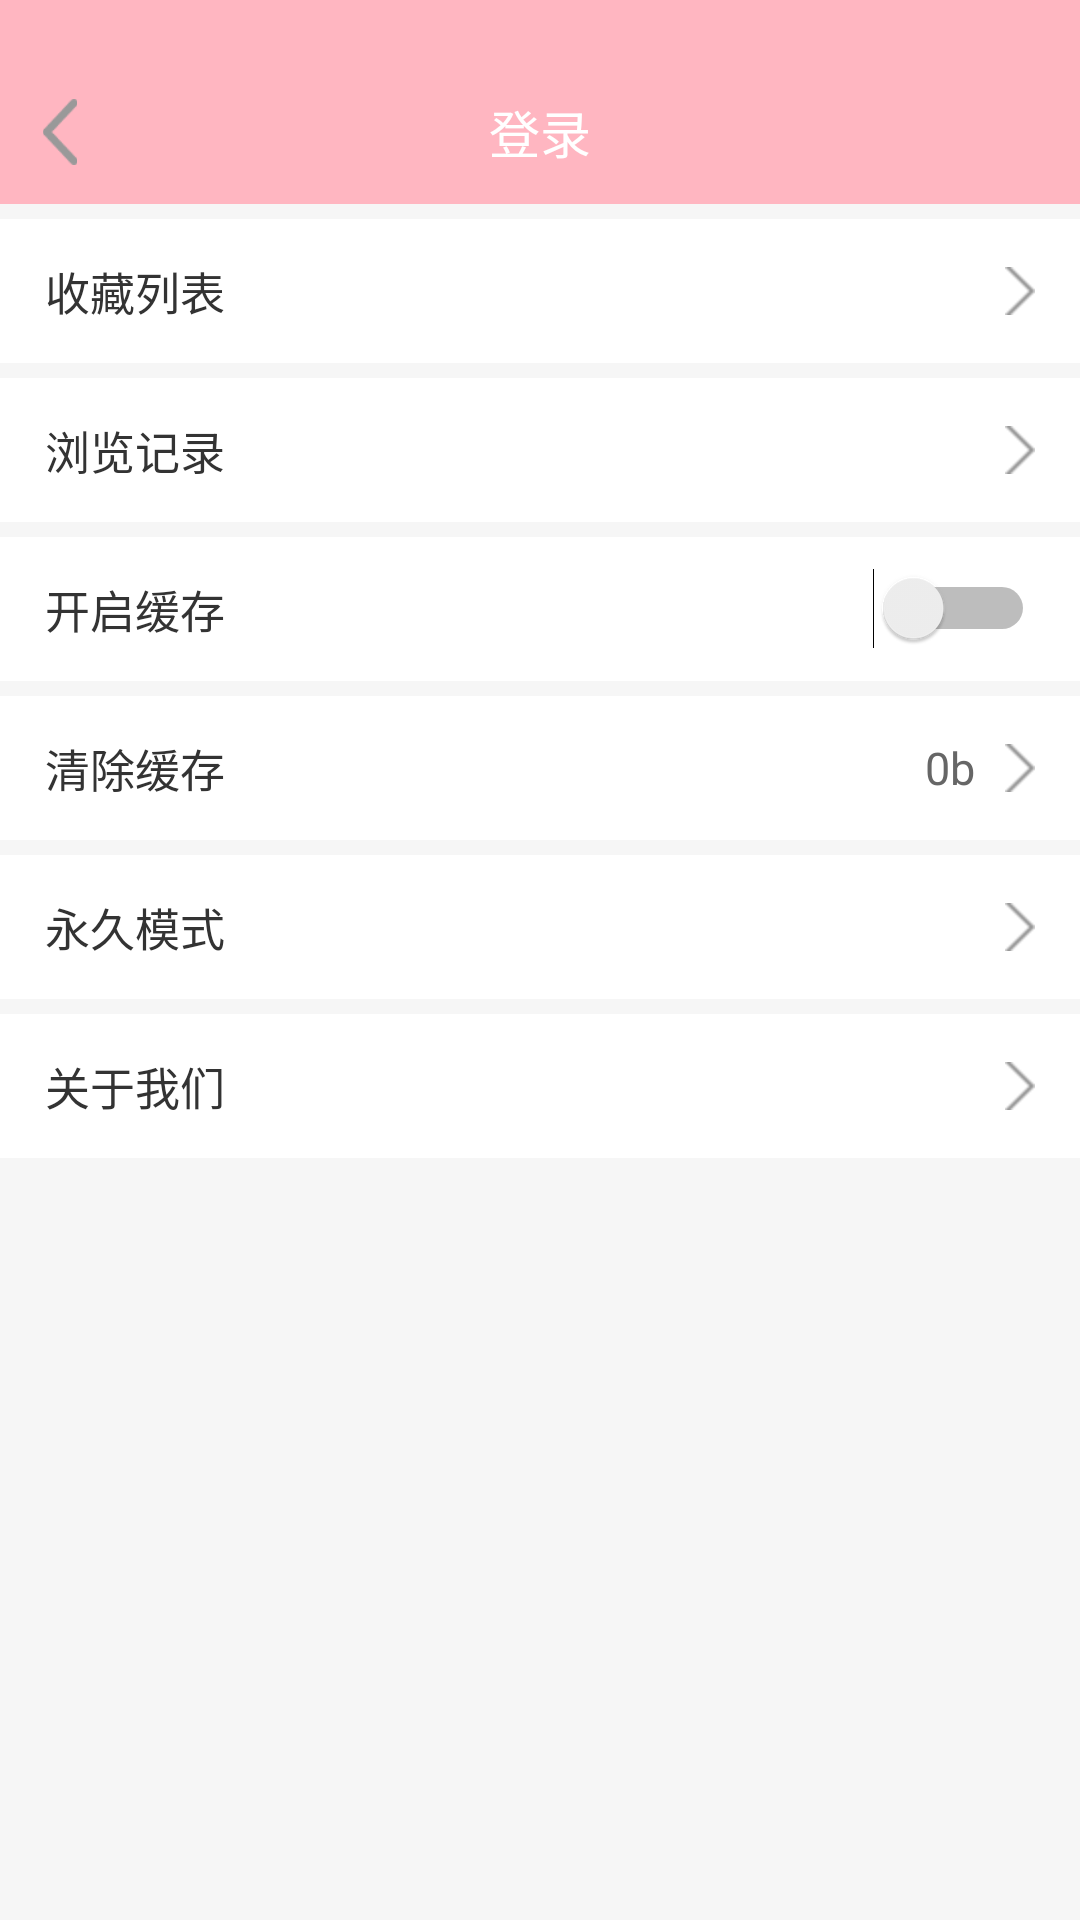

Locate icon controls on the screen. Image size 1080*1920, boxes as (x1, y1, x2, y2).
back: (43, 99, 77, 165)
more: (1005, 267, 1035, 315), (1005, 426, 1035, 474), (1005, 744, 1035, 792), (1005, 903, 1035, 951), (1005, 1062, 1035, 1110)
